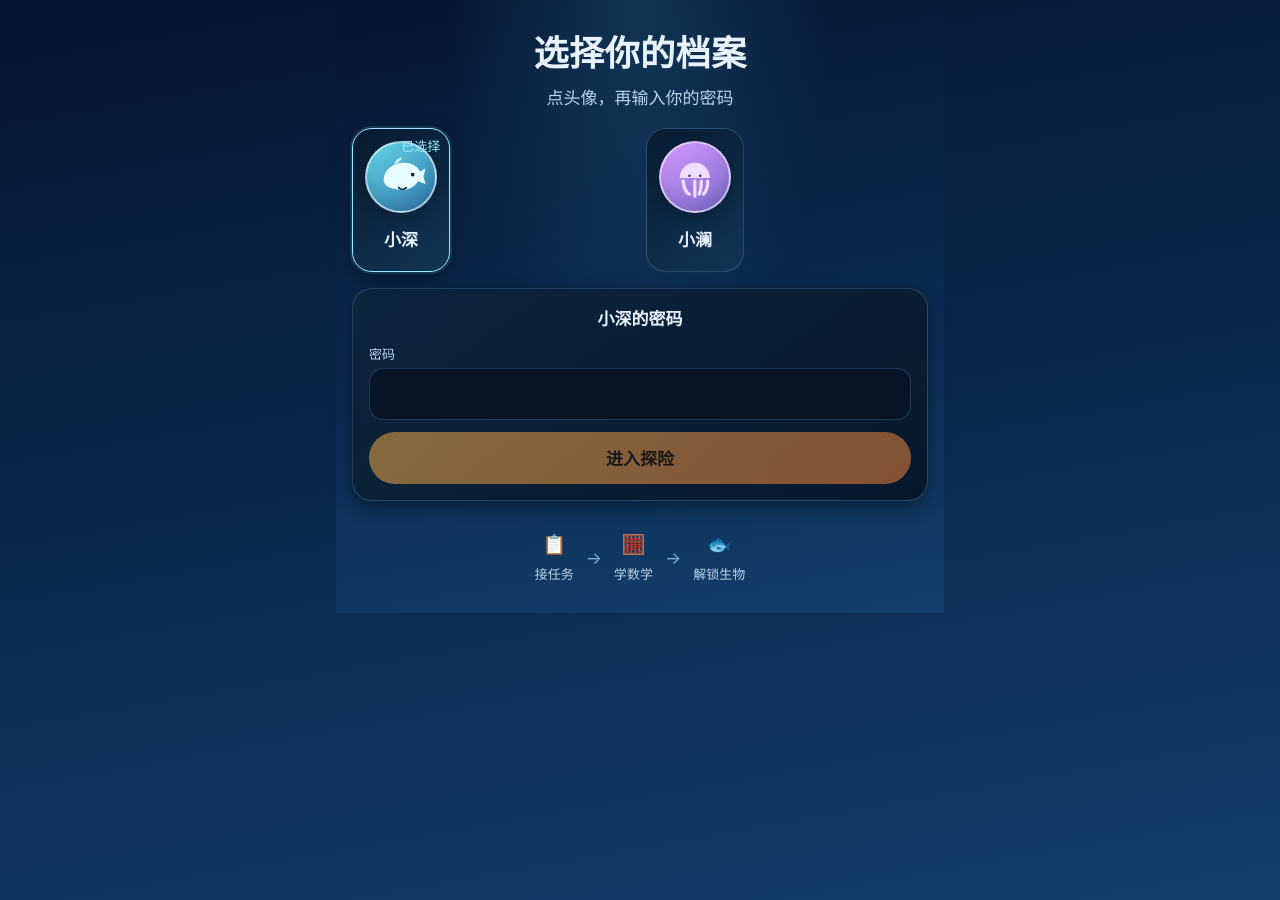
Test: views: ProfileSelectView › 渲染档案列表，选中档案后出现该档案的 PIN 盘
Expected: the number of icons is 2, [375, 151, 427, 202]; [669, 151, 721, 202]
Expected: the element with test id "pin-pad" shows "小深", [352, 288, 928, 502]
In the password field with test id "pin-input": (640, 394) [369, 368, 911, 420], type "1234"
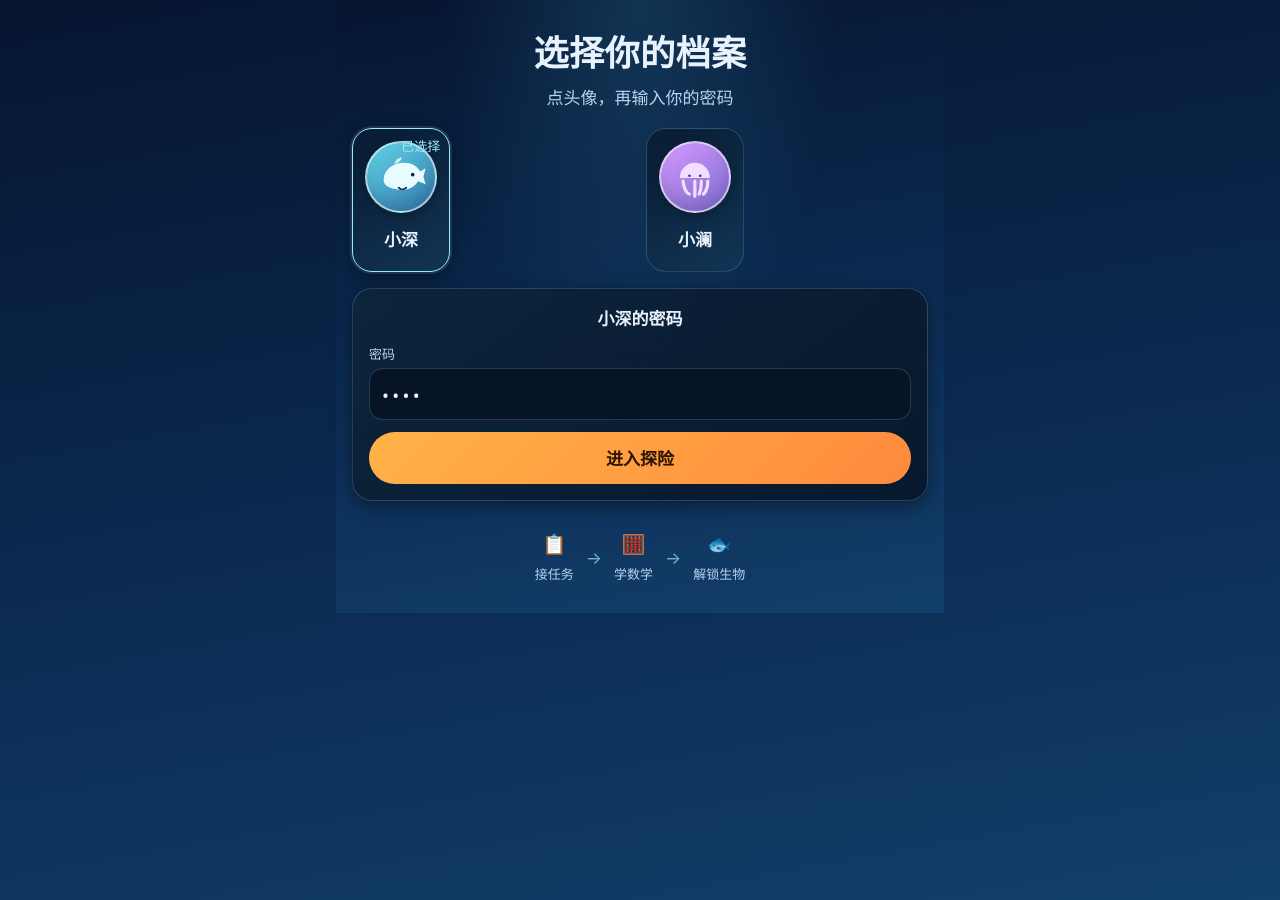
Click the button with test id "profile-card-p2": (695, 200) [646, 128, 744, 272]
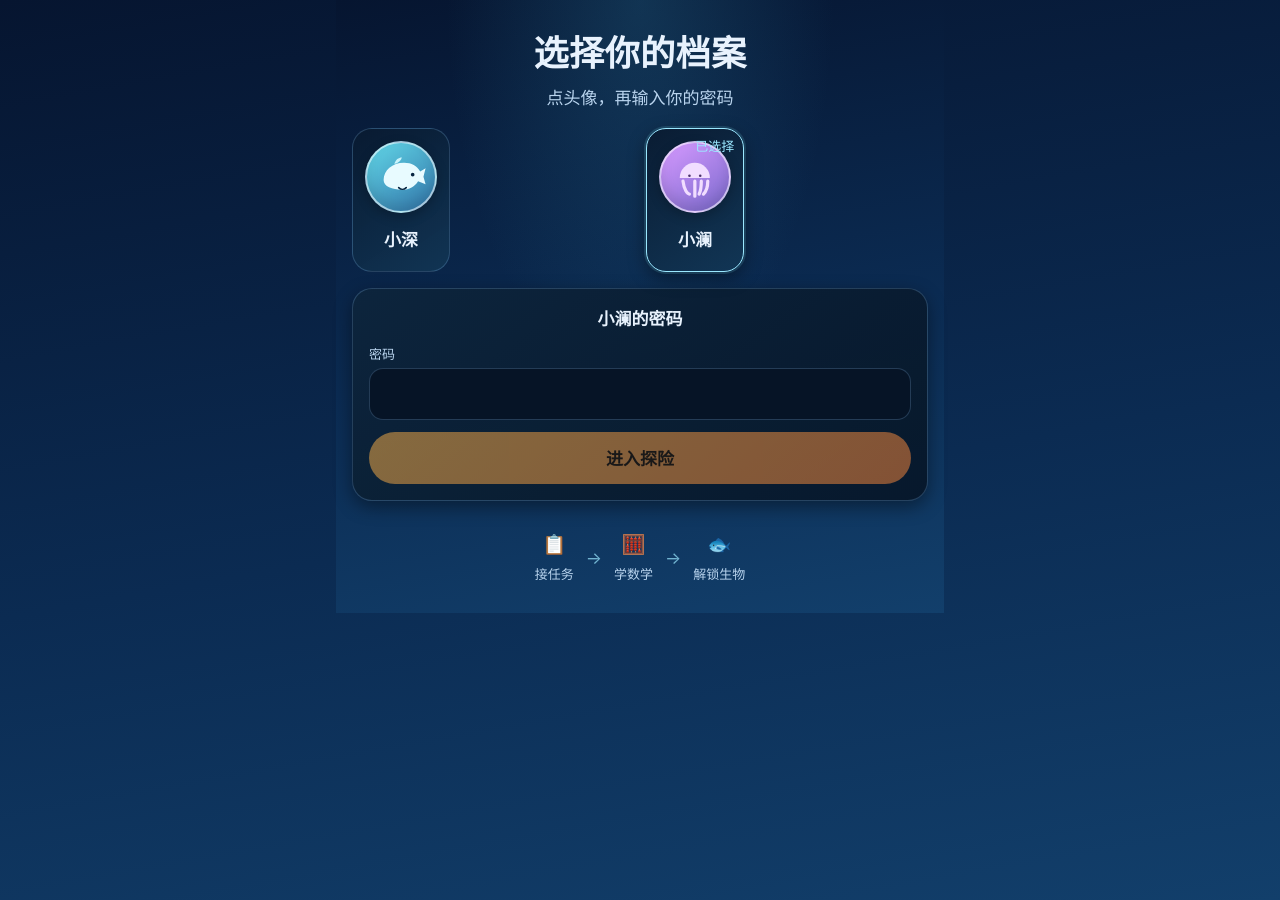
Expected: the element with test id "pin-pad" does not show "小深"
Expected: the element with test id "pin-pad" shows "小澜", [352, 288, 928, 502]
Expected: the password field with test id "pin-input" is empty, [369, 368, 911, 420]
